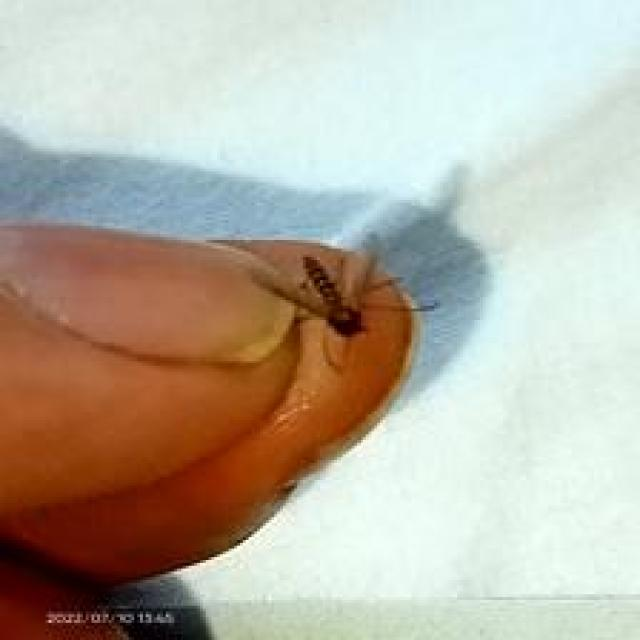Culex: (0, 217, 437, 592)
